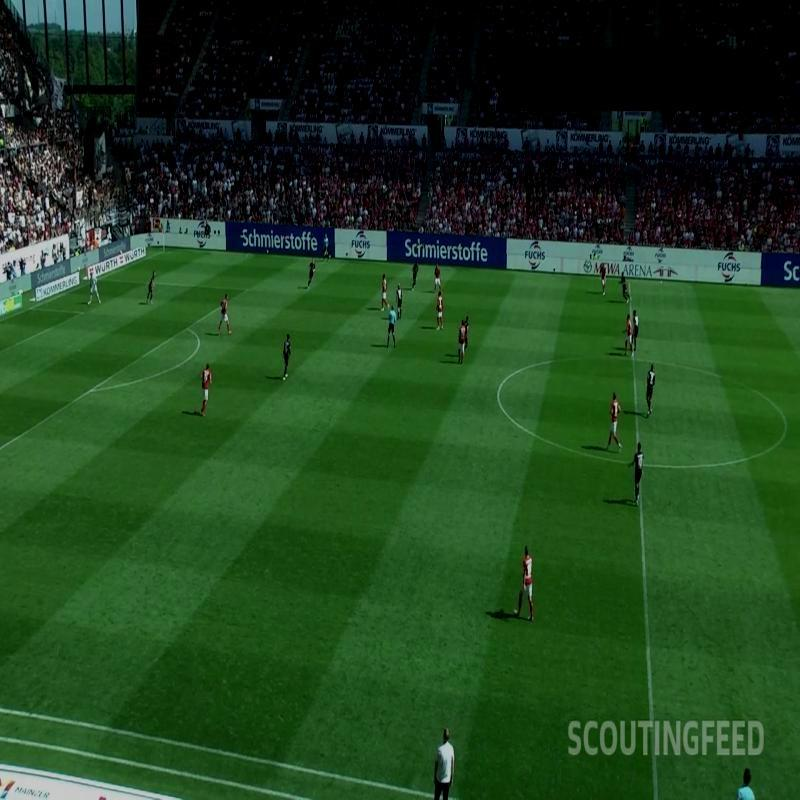1: (157, 244, 171, 258)
10: (180, 322, 194, 336)
11: (81, 383, 99, 399)
13: (622, 276, 636, 286)
14: (626, 353, 640, 366)
15: (626, 456, 652, 474)
2: (92, 272, 106, 286)
3: (24, 301, 40, 316)
7: (76, 306, 90, 320)
9: (240, 283, 254, 297)
c: (489, 384, 508, 398), (779, 417, 793, 431)
